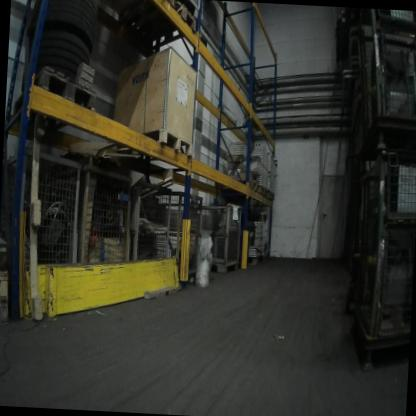pallet: (8, 62, 101, 140), (115, 0, 199, 45), (222, 176, 260, 195), (0, 268, 10, 306), (254, 179, 270, 199), (0, 300, 11, 329), (268, 189, 279, 205)
stillage: (344, 144, 416, 365), (0, 140, 86, 286), (347, 18, 416, 172), (81, 158, 138, 282), (129, 167, 179, 279), (167, 179, 207, 286), (198, 198, 245, 287)
